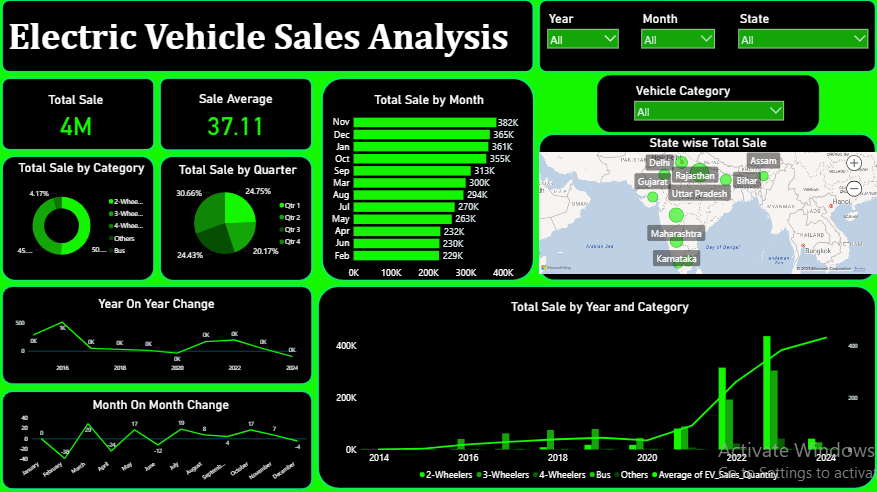

The dashboard page shown, as its layout file describes it:
{"tool":"powerbi","page":{"name":"Page 13","canvas":[1920,1080],"ordinal":12},"visuals":[{"type":"shape","title":"xcv cxbgfvb","box":[344.4,169.7,344.4,170.7],"z":0},{"type":"shape","title":"xcv cxbgfvb","box":[0,170,345,170],"z":1000},{"type":"shape","title":"xcv cxbgfvb","box":[690,625,1230,455],"z":2000},{"type":"lineClusteredColumnComboChart","title":"Total Sale by State and Category","fields":{"Y":["Sum(ev.EV_Sales_Quantity)"],"Y2":["Avg(ev.EV_Sales_Quantity)"],"Series":["ev.Vehicle_Category"],"Category":["ev.State"]},"box":[686,626,1230,454],"z":3000},{"type":"shape","title":"xcv cxbgfvb","box":[0,852.5,690,227.5],"z":4000},{"type":"lineChart","title":"Month On Month Change","fields":{"Y":["DAX.MOM"],"Category":["ev.Date.Variation.Date Hierarchy.Month"]},"box":[0,852.5,690,227.5],"z":5000},{"type":"shape","title":"xcv cxbgfvb","box":[1172.5,170,747.5,455],"z":6000},{"type":"lineClusteredColumnComboChart","title":"Total Sale by Year and Category","fields":{"Y":["Sum(ev.EV_Sales_Quantity)"],"Y2":["Avg(ev.EV_Sales_Quantity)"],"Series":["ev.Vehicle_Category"],"Category":["ev.Date.Variation.Date Hierarchy.Year"]},"box":[1172.5,170,747.5,455],"z":7000},{"type":"shape","title":"xcv cxbgfvb","box":[0,625,690,227.5],"z":8000},{"type":"shape","title":"xcv cxbgfvb","box":[345,340,345,285],"z":9000},{"type":"shape","title":"xcv cxbgfvb","box":[0,340,345,285],"z":10000},{"type":"donutChart","title":"Total Sale by Category","fields":{"Category":["ev.Vehicle_Category"],"Y":["Sum(ev.EV_Sales_Quantity)"]},"box":[0,335,345,305],"z":11000},{"type":"pieChart","title":"Total Sale by Quarter","fields":{"Y":["Sum(ev.EV_Sales_Quantity)"],"Category":["ev.Date.Variation.Date Hierarchy.Quarter"]},"box":[322.5,335,380,290],"z":12000},{"type":"shape","title":"xcv cxbgfvb","box":[1172.5,0,747.5,170],"z":13000},{"type":"shape","title":"xcv cxbgfvb","box":[697.5,170,475,455],"z":14000},{"type":"clusteredBarChart","title":"Total Sale by Month","fields":{"Y":["Sum(ev.EV_Sales_Quantity)"],"Category":["ev.Month_Name"]},"box":[702.5,170,470,470],"z":15000},{"type":"lineChart","title":"Year On Year Change","fields":{"Category":["ev.Date.Variation.Date Hierarchy.Year"],"Y":["DAX.YOY"]},"box":[26,644,590,210],"z":16000},{"type":"card","title":"Total Sale ","fields":{"Values":["Sum(ev.EV_Sales_Quantity)"]},"box":[0,187.9,335.4,137.4],"z":17000},{"type":"card","title":"Sale Average","fields":{"Values":["Avg(ev.EV_Sales_Quantity)"]},"box":[349.5,184.8,335.4,140.4],"z":18000},{"type":"shape","title":"xcv cxbgfvb","box":[0,0,1172.5,170],"z":19000},{"type":"textbox","box":[15,32.5,1125,137.5],"z":20000},{"type":"slicer","title":"Year","fields":{"Values":["ev.Date.Variation.Date Hierarchy.Year"]},"box":[1172.5,10,205,132.5],"z":21000},{"type":"slicer","title":"Year","fields":{"Values":["ev.Date.Variation.Date Hierarchy.Month"]},"box":[1377.5,10,210,132.5],"z":22000},{"type":"slicer","title":"Year","fields":{"Values":["ev.State"]},"box":[1587.5,10,332.5,132.5],"z":23000}]}

Visuals, with their boxes on the page's 1920x1080 design canvas (x1, y1, x2, y2). These are canvas units, not pixel positions in the 877x492 screenshot, which may show the page scaled, cropped or inside an application window:
"xcv cxbgfvb" shape: [344, 170, 689, 340]
"xcv cxbgfvb" shape: [0, 170, 345, 340]
"xcv cxbgfvb" shape: [690, 625, 1920, 1080]
"Total Sale by State and Category" lineClusteredColumnComboChart: [686, 626, 1916, 1080]
"xcv cxbgfvb" shape: [0, 852, 690, 1080]
"Month On Month Change" lineChart: [0, 852, 690, 1080]
"xcv cxbgfvb" shape: [1172, 170, 1920, 625]
"Total Sale by Year and Category" lineClusteredColumnComboChart: [1172, 170, 1920, 625]
"xcv cxbgfvb" shape: [0, 625, 690, 852]
"xcv cxbgfvb" shape: [345, 340, 690, 625]
"xcv cxbgfvb" shape: [0, 340, 345, 625]
"Total Sale by Category" donutChart: [0, 335, 345, 640]
"Total Sale by Quarter" pieChart: [322, 335, 702, 625]
"xcv cxbgfvb" shape: [1172, 0, 1920, 170]
"xcv cxbgfvb" shape: [698, 170, 1172, 625]
"Total Sale by Month" clusteredBarChart: [702, 170, 1172, 640]
"Year On Year Change" lineChart: [26, 644, 616, 854]
"Total Sale " card: [0, 188, 335, 325]
"Sale Average" card: [350, 185, 685, 325]
"xcv cxbgfvb" shape: [0, 0, 1172, 170]
textbox: [15, 32, 1140, 170]
"Year" slicer: [1172, 10, 1378, 142]
"Year" slicer: [1378, 10, 1588, 142]
"Year" slicer: [1588, 10, 1920, 142]
